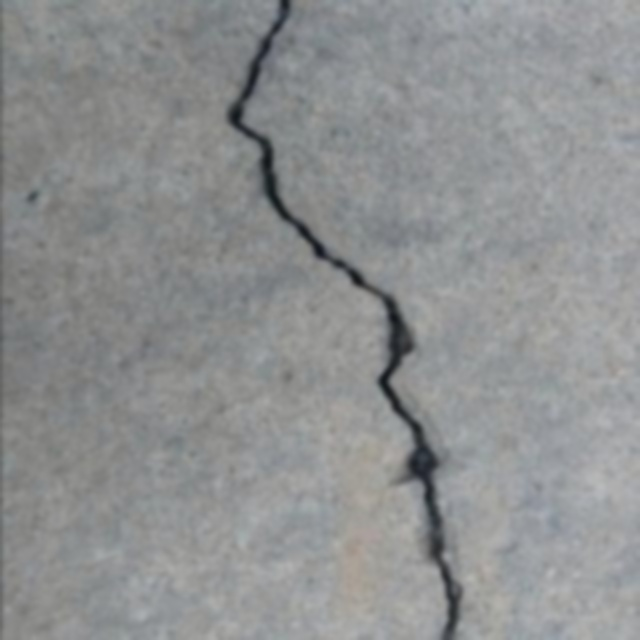SurfaceCrack: (218, 2, 464, 640)
